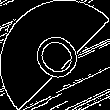O_SE: (22, 22, 88, 88)
